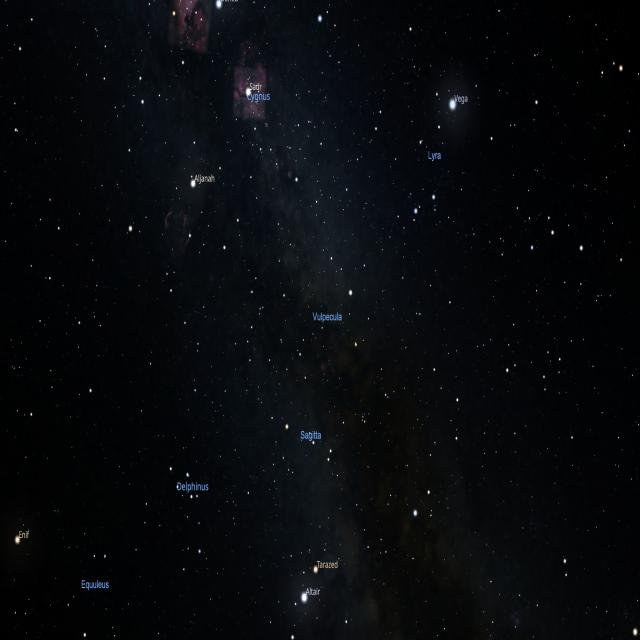Vulpecula: (280, 287, 360, 364)
